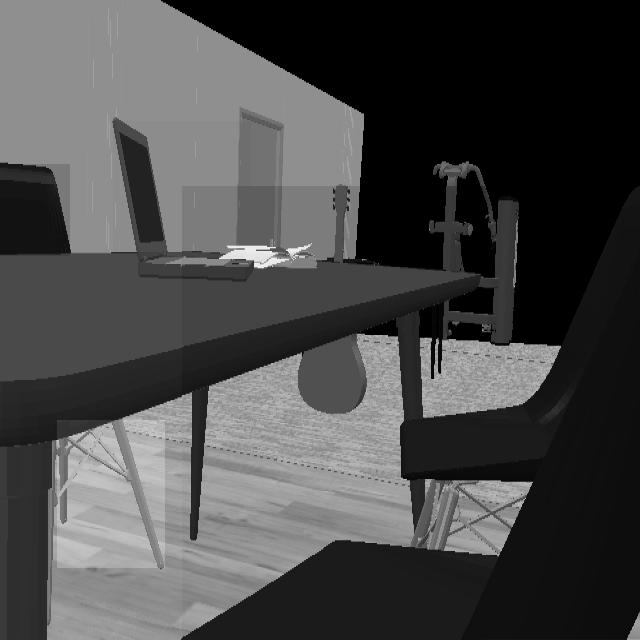chair: (184, 187, 640, 639), (57, 420, 165, 568), (0, 164, 70, 256)
laptop: (113, 122, 251, 284)
table: (0, 252, 483, 640)
